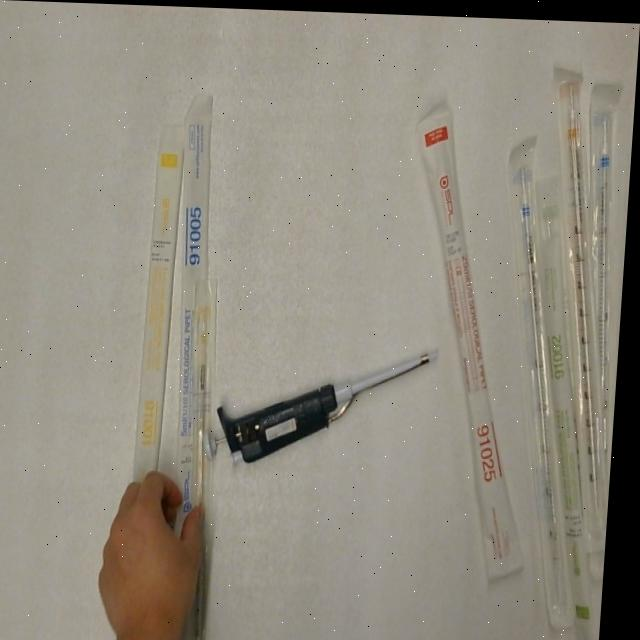Serelogical Pipet 1 mL - Sealed: (179, 276, 236, 640), (140, 120, 189, 487)
Serelogical Pipet 10 mL - Sealed: (534, 67, 636, 551)
Serelogical Pipet 2 mL - Sealed: (519, 220, 628, 640)
Serelogical Pipet 5 mL - Sealed: (483, 128, 609, 631), (164, 87, 233, 532), (573, 72, 633, 446)
Single Channel Pipettor: (394, 101, 561, 583), (205, 336, 448, 471)
